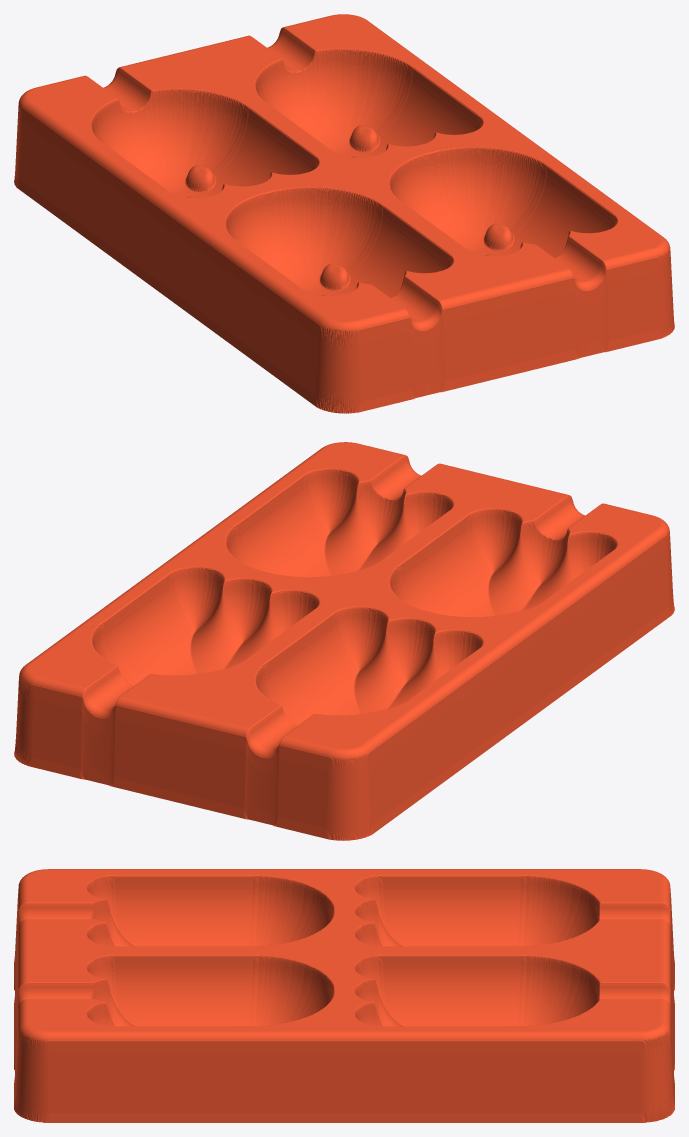
The model's file is mold.glb.
3 renders of one model, top to bottom at view 1: azimuth 30°, elevation 25°; view 2: azimuth 150°, elevation 25°; view 3: azimuth 270°, elevation 25°, orthographic.
Parts seen in each view (by area): view 1: geometry_0; view 2: geometry_0; view 3: geometry_0.
Boxes of the visible parts, box(x1,y1,x2,y2) form: geometry_0: box(14, 14, 674, 413); geometry_0: box(14, 442, 674, 840); geometry_0: box(14, 869, 674, 1122).
Bounding box in the file's own units: 0.1059 × 0.0245 × 0.171.
